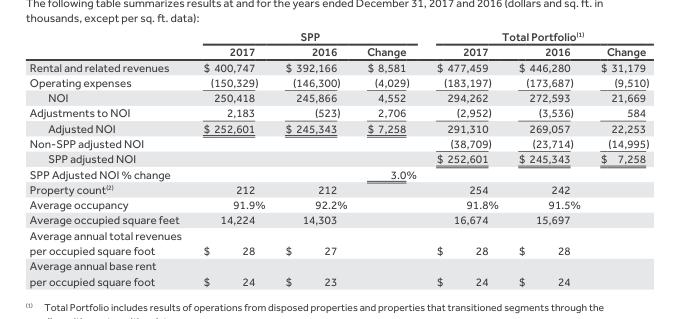table: (28, 28, 648, 287)
table column: (28, 28, 191, 287), (191, 28, 274, 287), (274, 28, 356, 287), (425, 28, 507, 287), (507, 28, 589, 287), (356, 28, 425, 287), (589, 28, 648, 287)
table column header: (28, 28, 648, 58)
table row: (28, 226, 648, 257), (28, 257, 648, 287), (28, 58, 648, 74), (28, 104, 648, 120), (28, 165, 648, 181), (28, 28, 648, 43), (28, 43, 648, 58), (28, 74, 648, 89), (28, 89, 648, 104), (28, 120, 648, 135), (28, 135, 648, 150), (28, 150, 648, 165), (28, 181, 648, 196), (28, 196, 648, 211), (28, 211, 648, 226)
table spanning cell: (191, 28, 425, 43), (425, 28, 648, 43)
